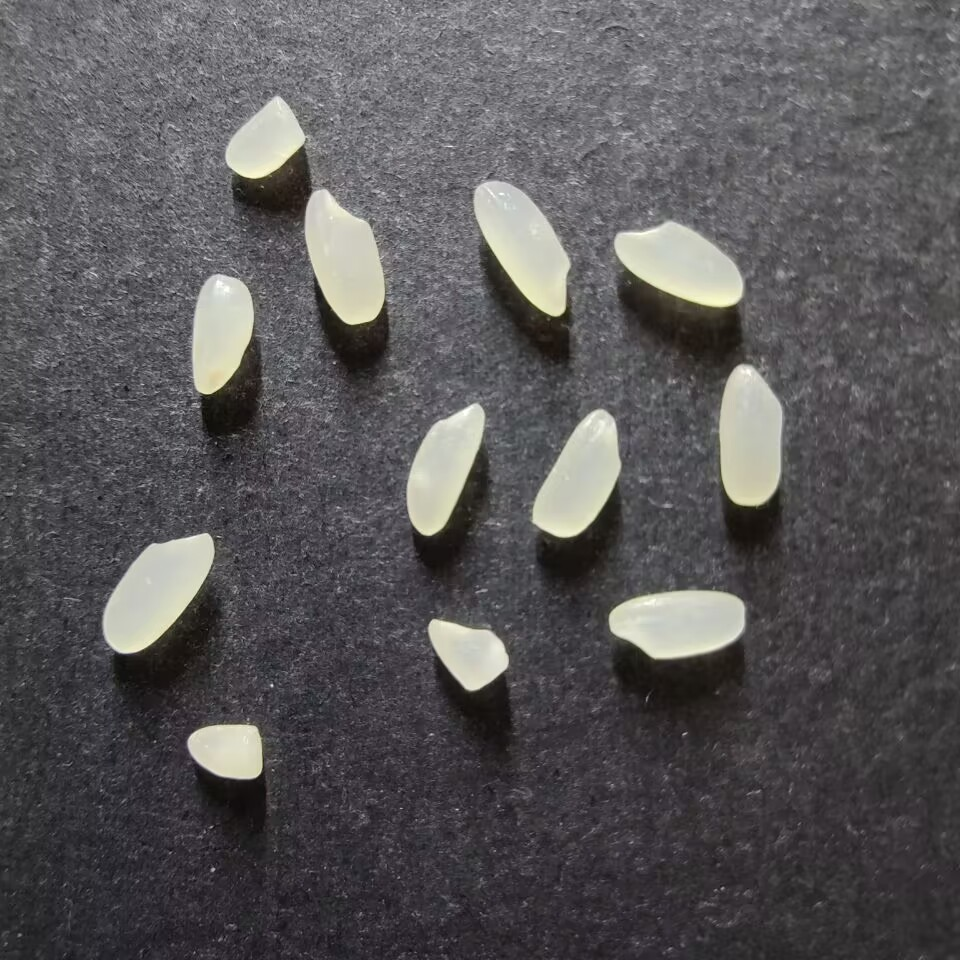broken: (224, 95, 305, 179), (427, 618, 509, 691), (187, 723, 263, 780)
rice: (101, 532, 215, 654), (472, 179, 572, 317), (531, 408, 622, 538), (303, 187, 385, 326), (613, 221, 744, 307), (405, 402, 486, 536), (607, 589, 746, 659), (717, 364, 783, 506), (190, 274, 253, 394)
